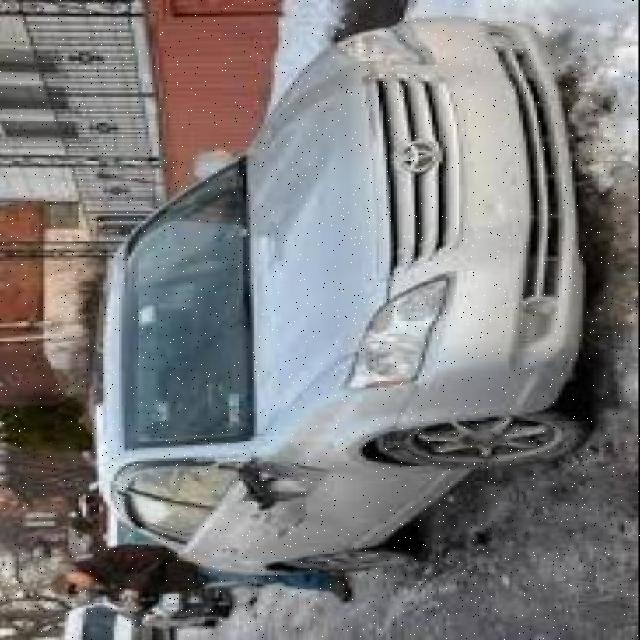damage: (220, 453, 329, 546)
